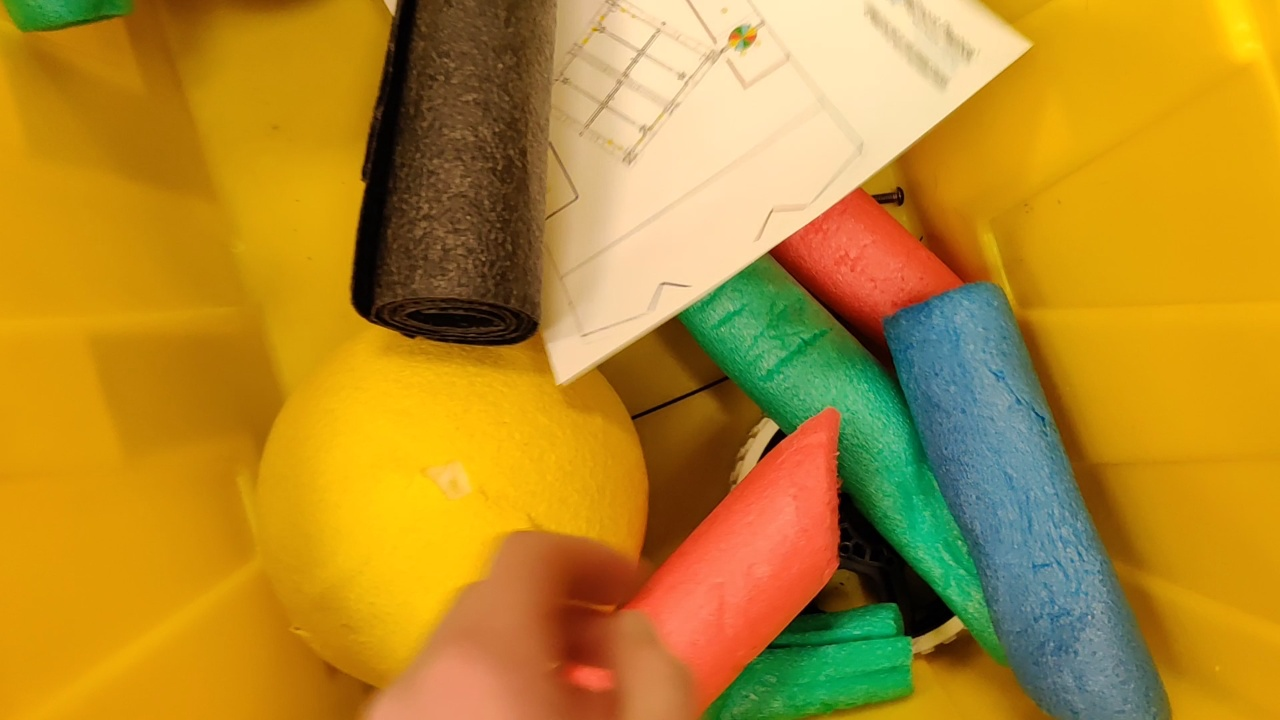Ball: (251, 307, 650, 697)
